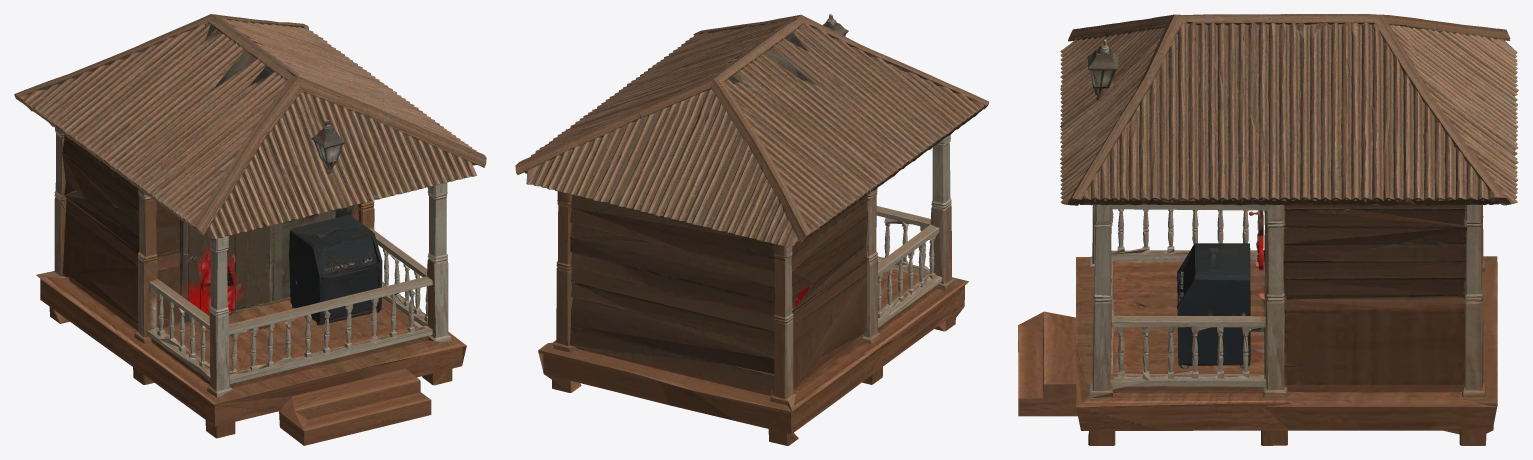
The model's file is porch.glb.
The picture shows the model from 3 angles, left to right: view 1: azimuth 30°, elevation 25°; view 2: azimuth 150°, elevation 25°; view 3: azimuth 270°, elevation 25°; orthographic projection. The views are drawn at different scales.
Bounding box in the file's own units: 1.53 × 1.53 × 1.91.
1 material, 1 textured.
